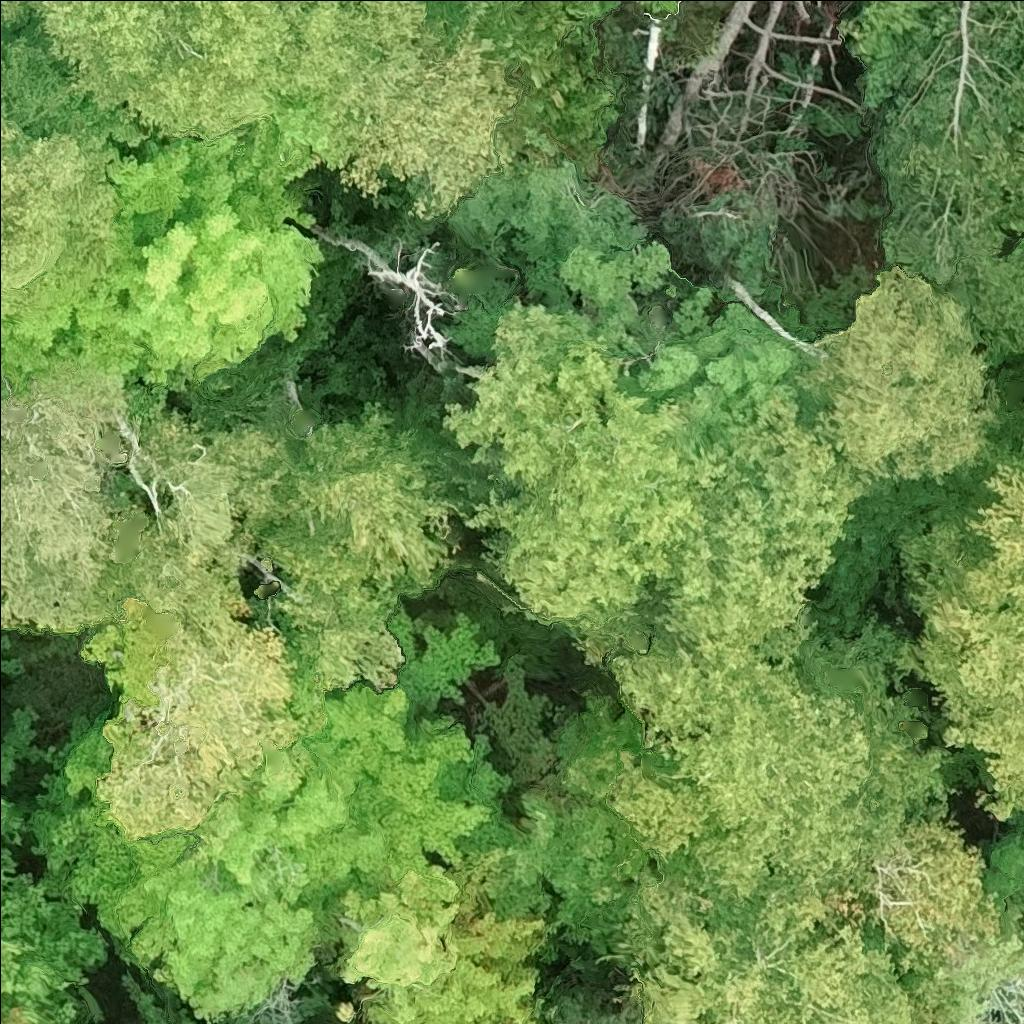crown: (26, 603, 523, 1023), (440, 295, 727, 637), (0, 131, 327, 398), (599, 635, 907, 916), (643, 379, 878, 670), (258, 400, 490, 690), (77, 591, 322, 842), (32, 0, 440, 142), (788, 264, 1003, 491), (615, 865, 914, 1023), (122, 397, 301, 648), (0, 16, 149, 315), (333, 847, 549, 1023), (337, 23, 523, 219), (509, 694, 664, 929), (0, 361, 131, 637), (905, 565, 1023, 822), (623, 285, 802, 442), (512, 235, 675, 386), (436, 153, 651, 265), (895, 436, 1023, 611), (0, 858, 110, 1023), (885, 804, 1004, 954), (895, 895, 1023, 1023), (234, 97, 359, 185), (240, 988, 331, 1023), (0, 0, 33, 33), (0, 1002, 31, 1023)
